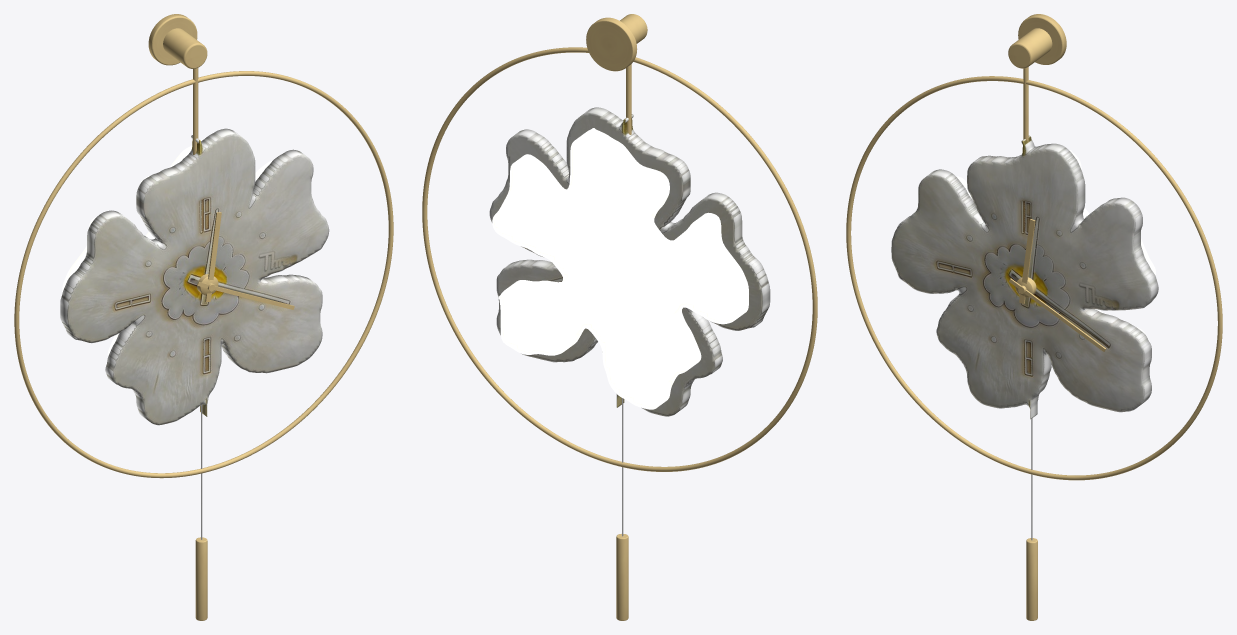
File: blossom-ring-wall-clock-light.glb
The picture shows the model from 3 angles, left to right: view 1: azimuth 30°, elevation 25°; view 2: azimuth 150°, elevation 25°; view 3: azimuth 330°, elevation 25°; orthographic projection. The views are drawn at different scales.
Parts seen in each view (by area): view 1: FlowerPanel, Ring, HangerDisc, HangerBoss, PendulumWeight, LedPlate; view 2: LedPlate, FlowerPanel, Ring, HangerDisc, PendulumWeight; view 3: FlowerPanel, Ring, HangerDisc, HangerBoss, PendulumWeight, MinuteHand.
Boxes of the visible parts, x1,y1,x2,y2 form: FlowerPanel: (60, 128, 329, 425); Ring: (14, 71, 393, 478); HangerDisc: (148, 14, 197, 65); HangerBoss: (163, 28, 207, 68); PendulumWeight: (195, 537, 207, 620); LedPlate: (62, 137, 272, 356); LedPlate: (492, 128, 748, 409); FlowerPanel: (489, 107, 770, 416); Ring: (422, 47, 817, 471); HangerDisc: (586, 17, 637, 71); PendulumWeight: (616, 534, 628, 620); FlowerPanel: (891, 135, 1158, 419); Ring: (846, 76, 1222, 480); HangerDisc: (1018, 14, 1066, 64); HangerBoss: (1008, 28, 1052, 68); PendulumWeight: (1026, 538, 1037, 620); MinuteHand: (1009, 278, 1105, 351).
Bounding box in the file's own units: 0.3355 × 0.5005 × 0.0495.
Materials: 6 (5 with a texture image).
